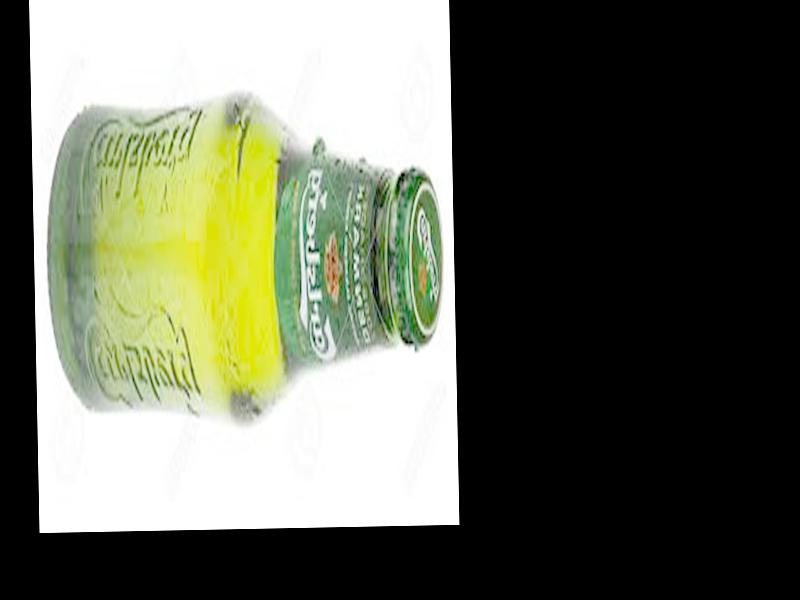Beer: (42, 91, 446, 431)
